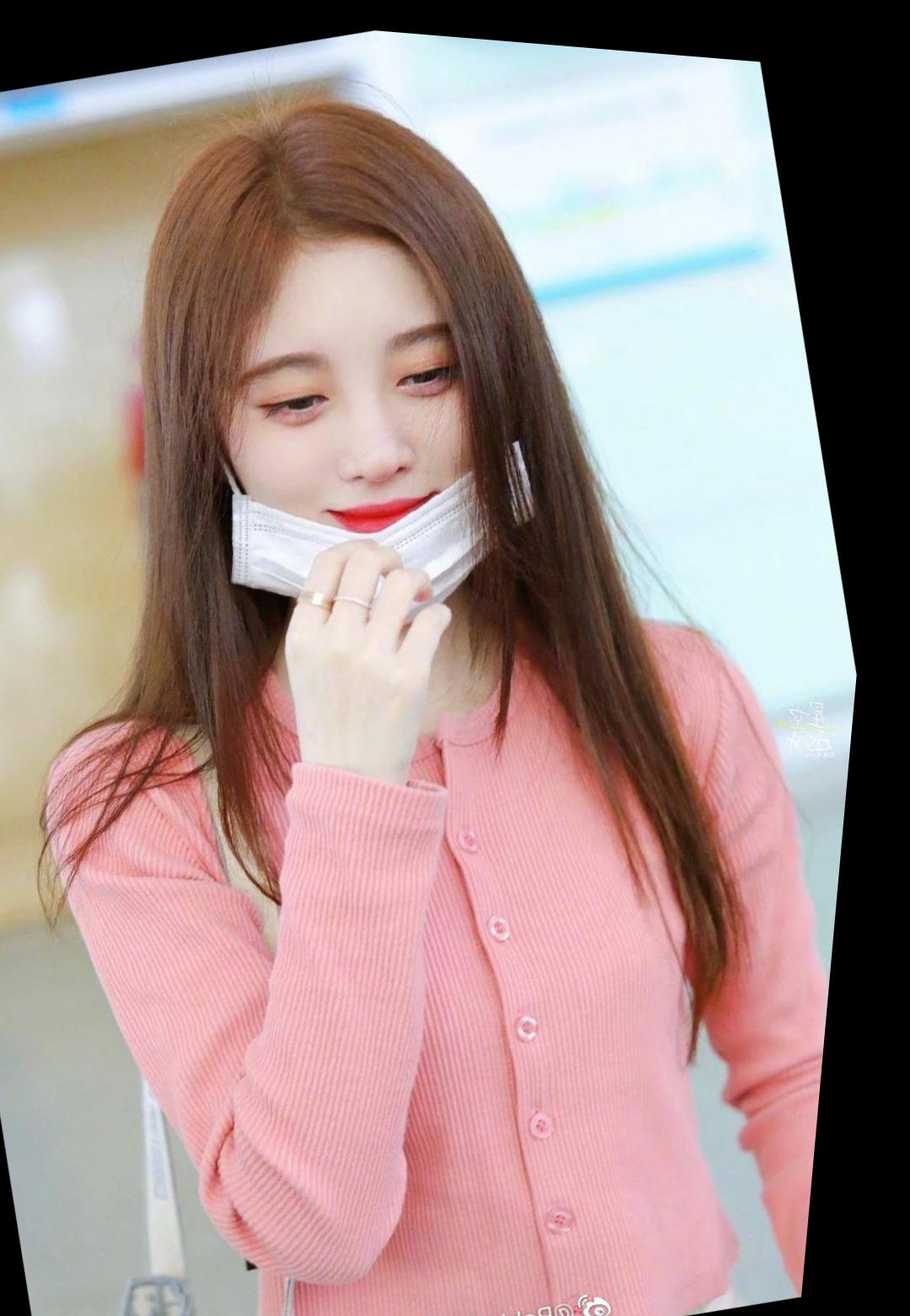WRONG: (193, 242, 545, 640)
